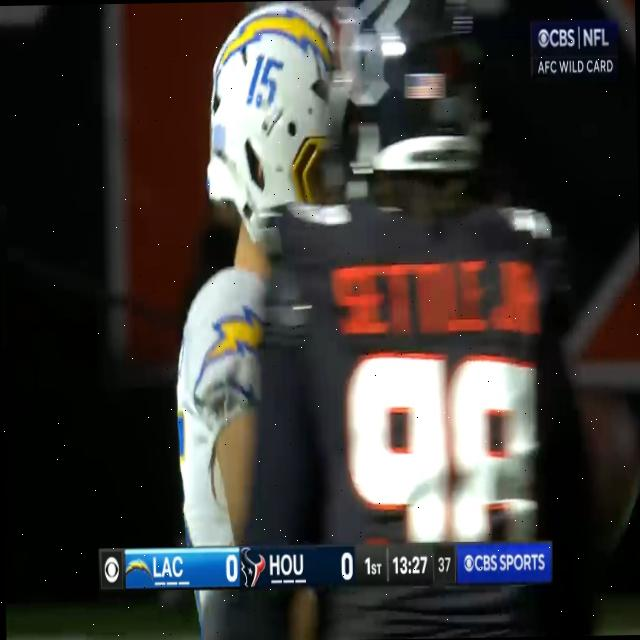Player: (250, 0, 596, 545), (173, 1, 339, 564)
